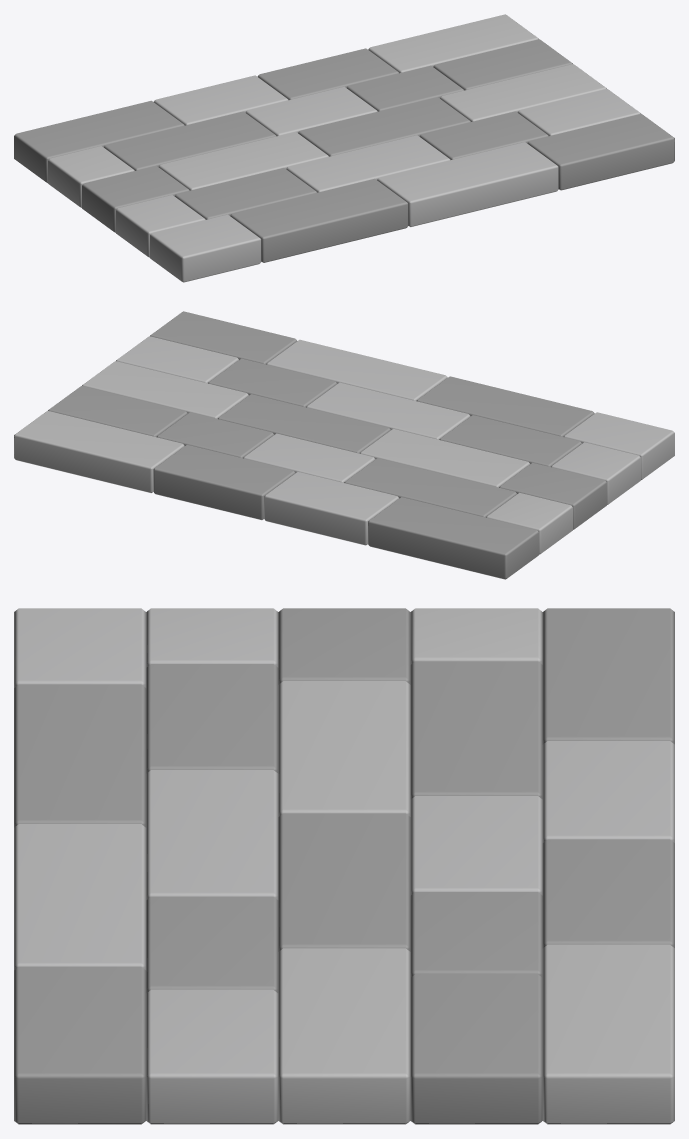
Rendered from City_16_Base_1.glb.
The picture shows the model from 3 angles, top to bottom: view 1: azimuth 30°, elevation 25°; view 2: azimuth 150°, elevation 25°; view 3: azimuth 270°, elevation 25°; orthographic projection. The views are drawn at different scales.
Parts seen in each view (by area): view 1: City_16_Base_1; view 2: City_16_Base_1; view 3: City_16_Base_1.
Part boxes in pixels (<box>): City_16_Base_1: <box>14,14,674,282</box>; City_16_Base_1: <box>14,311,674,579</box>; City_16_Base_1: <box>14,608,674,1124</box>.
Size of the model in its own units: 12.22 by 0.6294 by 7.28.
1 material, 1 textured.
